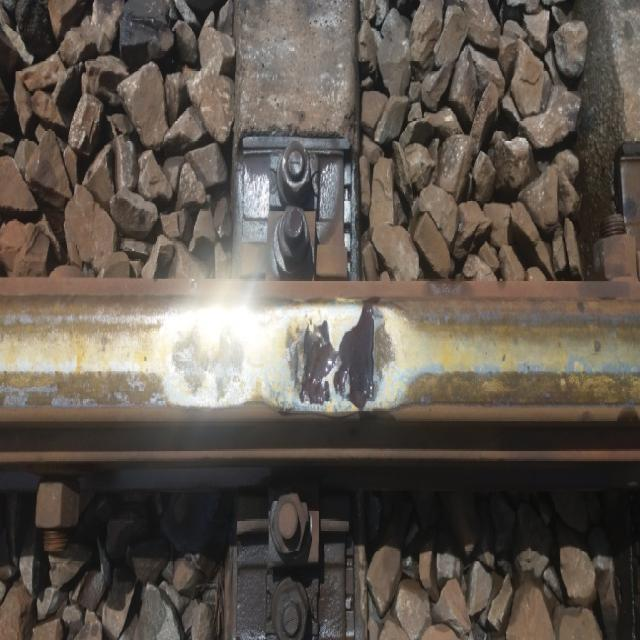head_checks_high: (264, 295, 420, 417), (154, 302, 260, 406)
